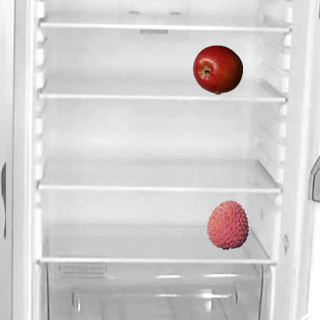Apple Braeburn: (192, 44, 242, 94)
Lychee: (202, 199, 252, 249)
